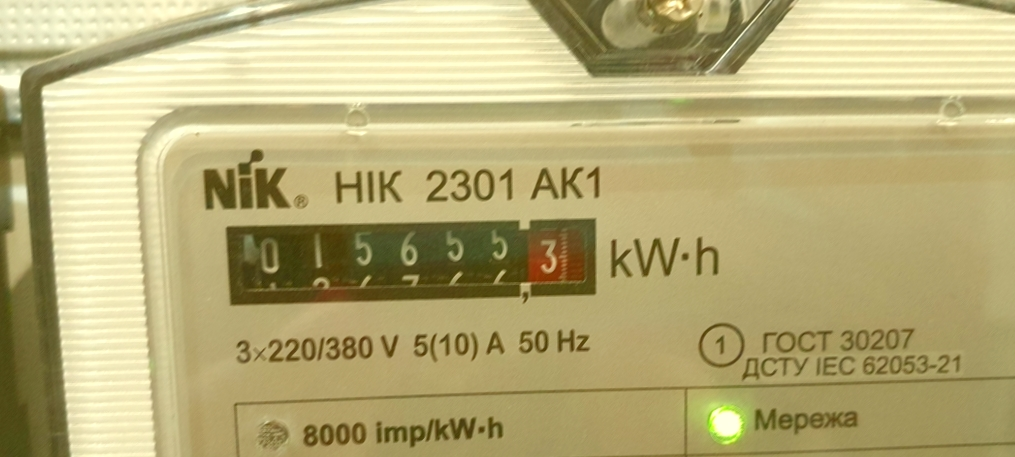0: (256, 232, 282, 274)
1: (308, 229, 328, 269)
3: (538, 236, 558, 272)
5: (350, 229, 375, 265), (443, 228, 467, 261), (490, 227, 509, 260)
6: (397, 229, 421, 265)
screen: (211, 197, 612, 320)
